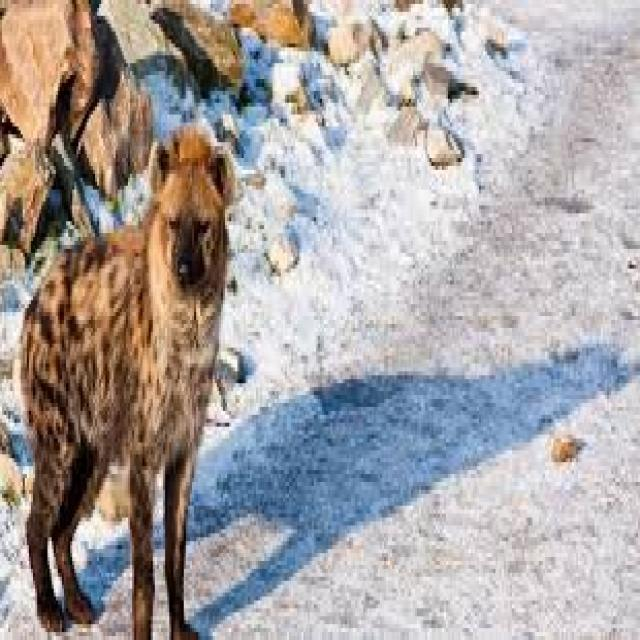Hyena: (18, 123, 242, 640)
